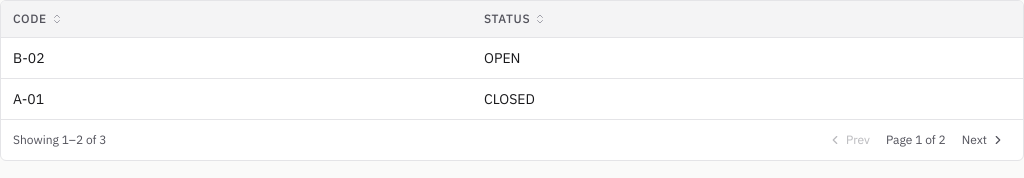
Test case: DataTable › paginates client-side and shows the pager
Expected: the text "B-02" is shown, [1, 38, 472, 78]
Expected: the text "C-03" is not shown
What coordinates should you click on to do the following:
click the button with aria-label "next page"
I would click on:
 (983, 140)
Its box is [956, 128, 1011, 152].
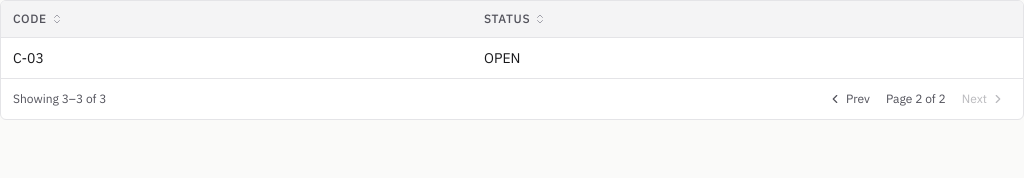
Expected: the text "C-03" is shown, [1, 38, 472, 78]
Expected: the text "B-02" is gone
